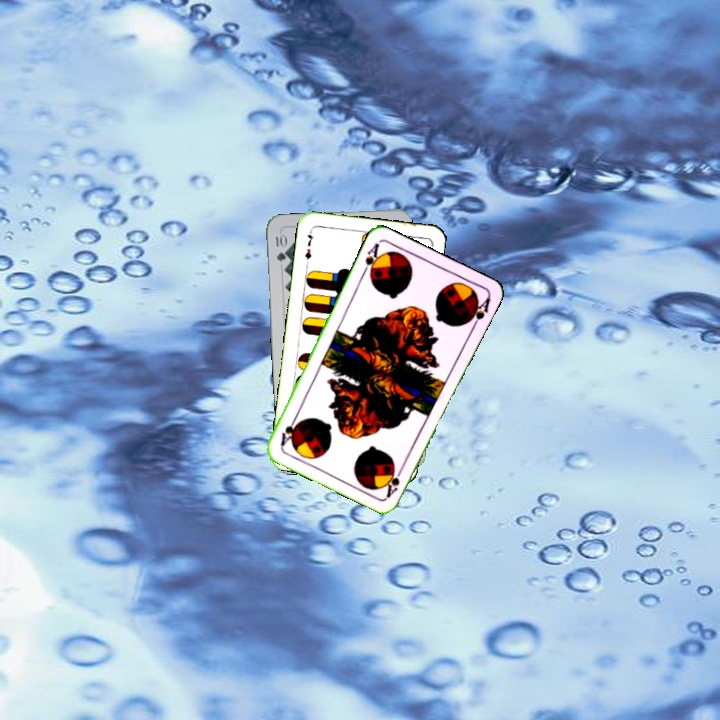E7: (301, 226, 317, 267)
G10: (271, 229, 288, 264)
SA: (358, 239, 384, 280), (382, 461, 407, 500)
